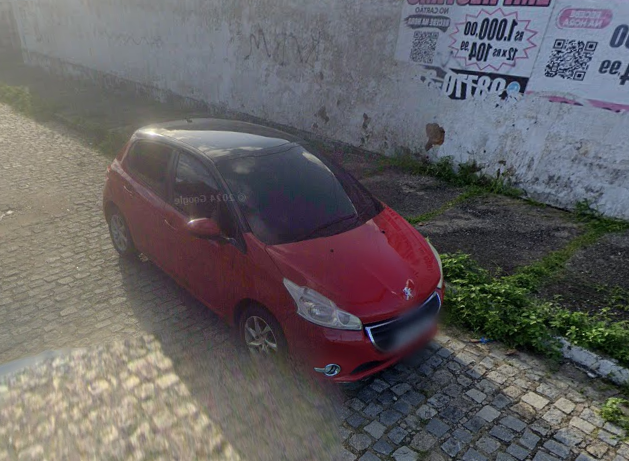car: (101, 115, 448, 387)
